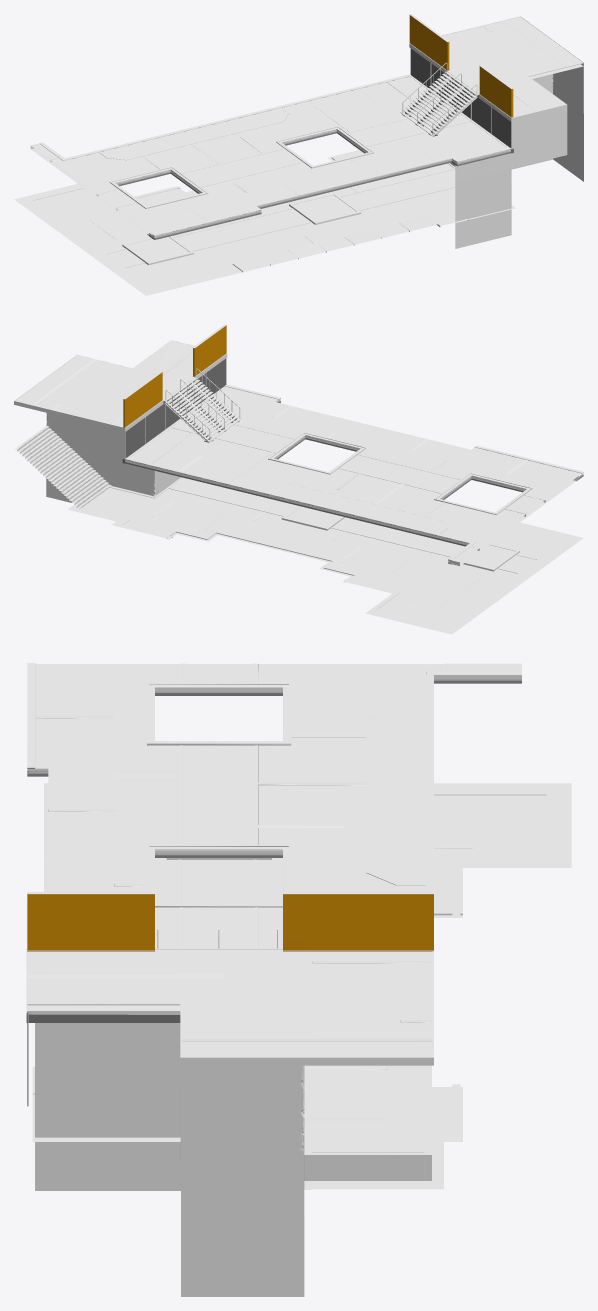
3 renders of one model, top to bottom at view 1: azimuth 30°, elevation 25°; view 2: azimuth 150°, elevation 25°; view 3: azimuth 270°, elevation 25°, orthographic. The views are drawn at different scales.
Visible parts, largest first — view 1: SM_H_Building_FutureTech_DormitoryPassage_01; view 2: SM_H_Building_FutureTech_DormitoryPassage_01; view 3: SM_H_Building_FutureTech_DormitoryPassage_01.
Part boxes in pixels (bbox=[...]): SM_H_Building_FutureTech_DormitoryPassage_01: bbox=[14, 14, 583, 295]; SM_H_Building_FutureTech_DormitoryPassage_01: bbox=[14, 324, 583, 634]; SM_H_Building_FutureTech_DormitoryPassage_01: bbox=[26, 663, 571, 1296].
Size of the model in its own units: 786 by 1572 by 472.
